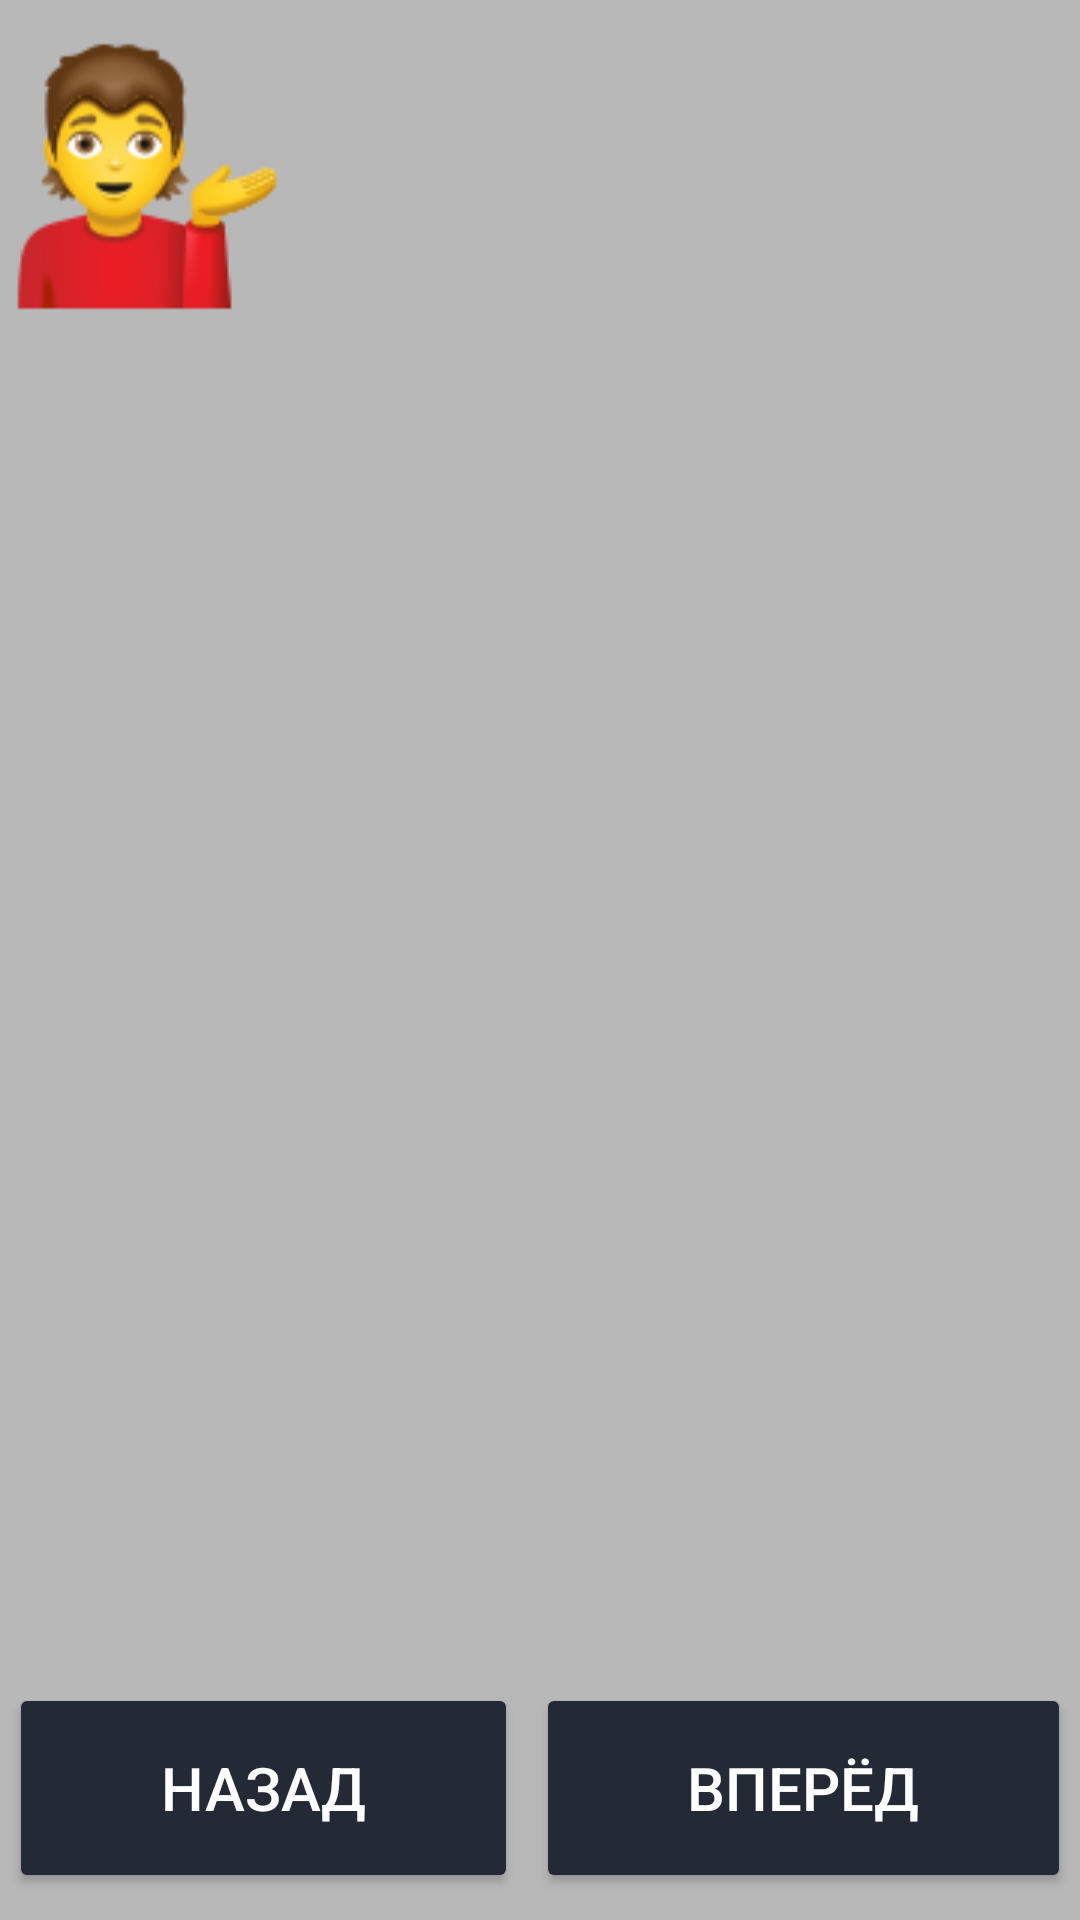

Icons on this 1080×1920 Android screen, each with the point to tap as (x,y):
person: (147,176)
